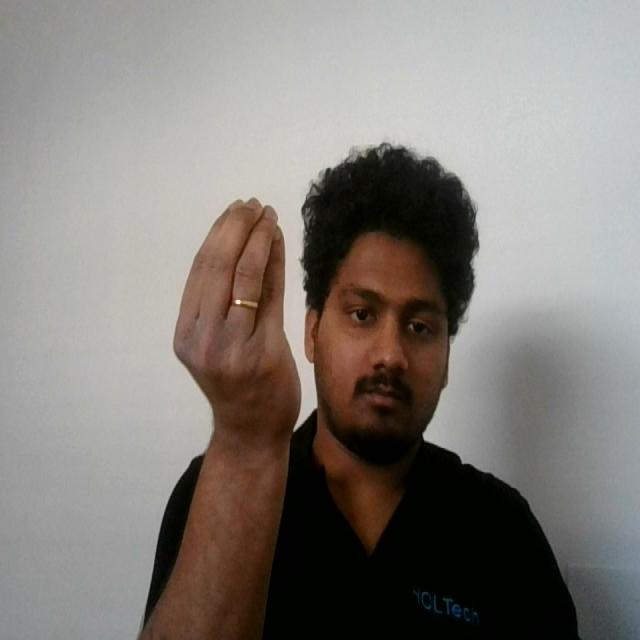Please: (164, 192, 317, 454)
